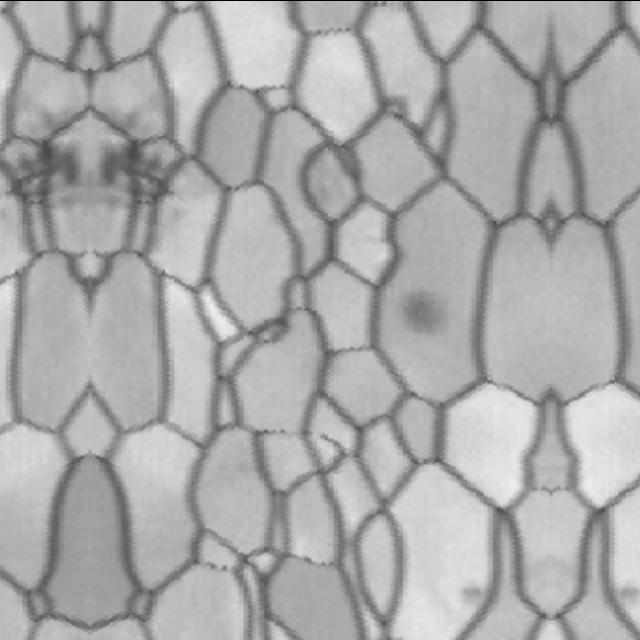good_void: (74, 99, 214, 239), (0, 120, 89, 226), (383, 271, 474, 358), (446, 573, 490, 617)
